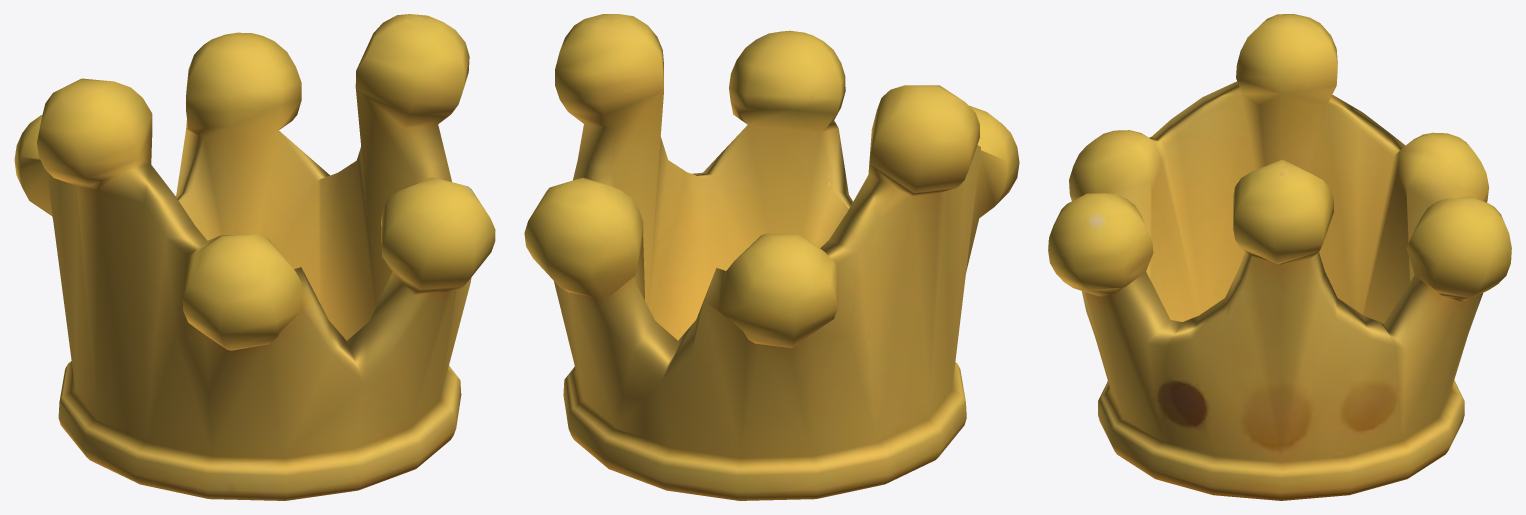
File: acc-crown.glb
3 renders of one model, left to right at view 1: azimuth 30°, elevation 25°; view 2: azimuth 150°, elevation 25°; view 3: azimuth 270°, elevation 25°, orthographic. The views are drawn at different scales.
Parts seen in each view (by area): view 1: tripo_node_ee467e01-3243-4d41-86a9-9b87a757988c; view 2: tripo_node_ee467e01-3243-4d41-86a9-9b87a757988c; view 3: tripo_node_ee467e01-3243-4d41-86a9-9b87a757988c.
Boxes of the visible parts, x1,y1,x2,y2 form: tripo_node_ee467e01-3243-4d41-86a9-9b87a757988c: (14, 14, 495, 500); tripo_node_ee467e01-3243-4d41-86a9-9b87a757988c: (524, 14, 1019, 500); tripo_node_ee467e01-3243-4d41-86a9-9b87a757988c: (1048, 14, 1511, 500).
Size of the model in its own units: 0.9433 by 0.8066 by 0.998.
1 material, 1 textured.
